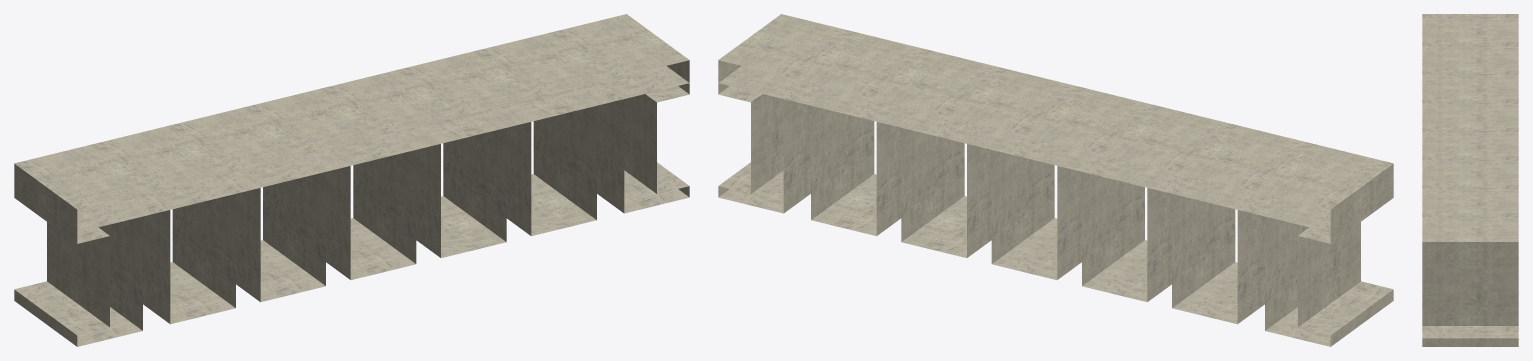
The model's file is BridgeBase5-28w-5l-5d.FBX.
3 renders of one model, left to right at view 1: azimuth 30°, elevation 25°; view 2: azimuth 150°, elevation 25°; view 3: azimuth 270°, elevation 25°, orthographic. The views are drawn at different scales.
Parts seen in each view (by area): view 1: BridgeBase5-28w-5l-5d; view 2: BridgeBase5-28w-5l-5d; view 3: BridgeBase5-28w-5l-5d.
Part boxes in pixels (left/top/right/bottom): BridgeBase5-28w-5l-5d: left=14, top=14, right=689, bottom=346; BridgeBase5-28w-5l-5d: left=718, top=14, right=1393, bottom=346; BridgeBase5-28w-5l-5d: left=1422, top=14, right=1518, bottom=346.
Size of the model in its own units: 28 by 6 by 5.
